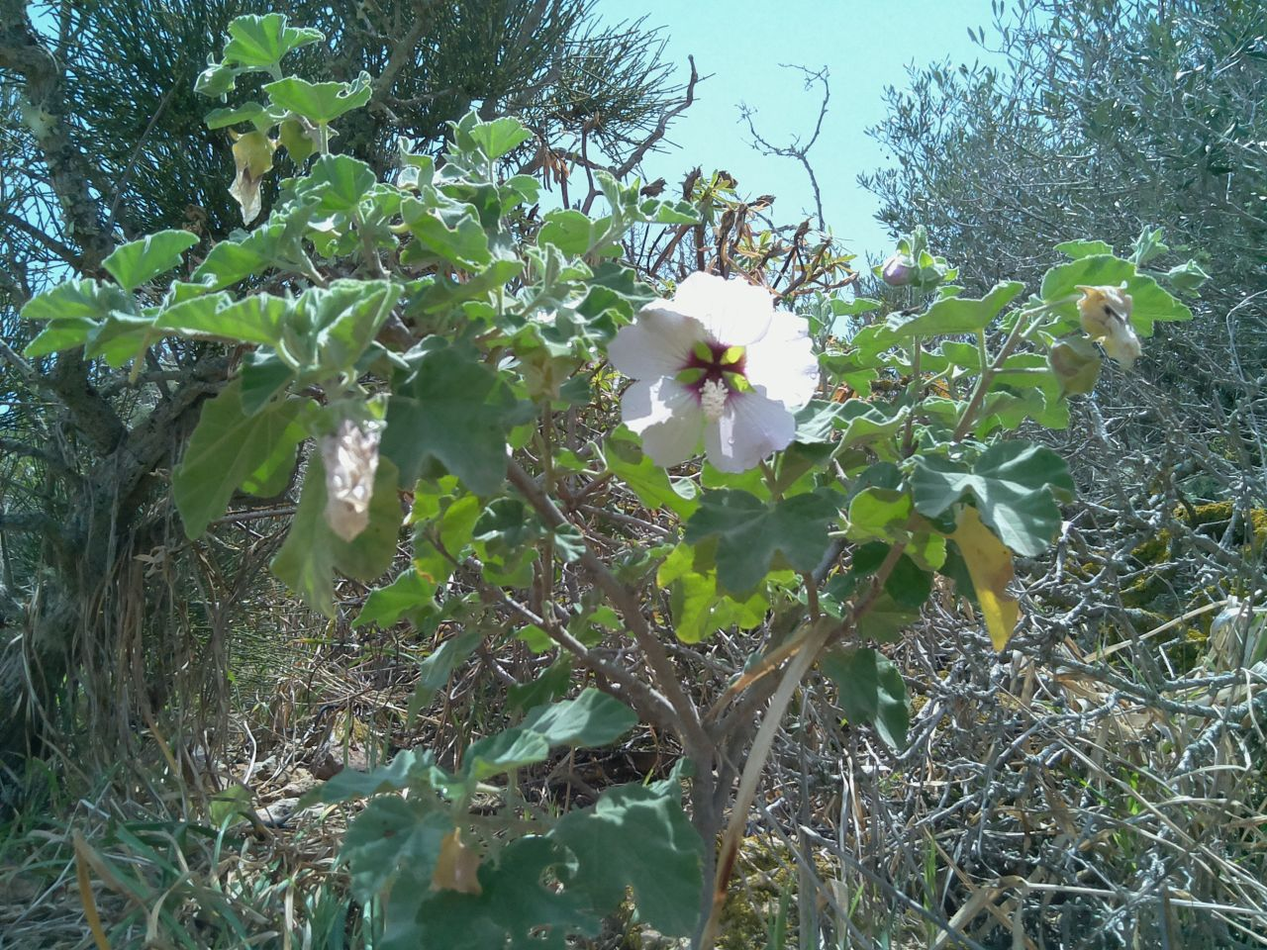Fly: (898, 304, 926, 326)
